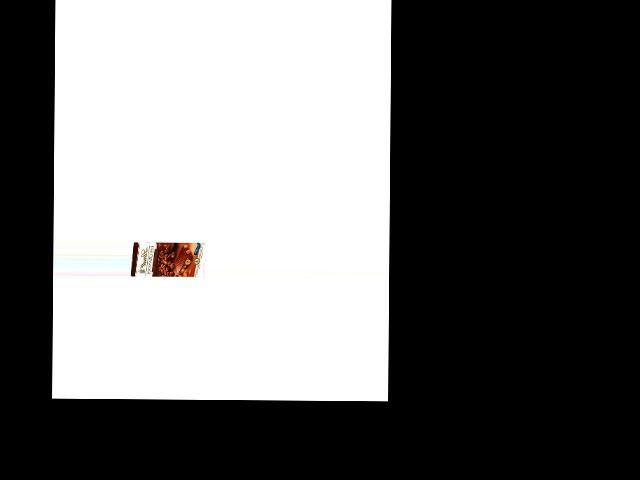chocolate: (133, 239, 201, 282)
